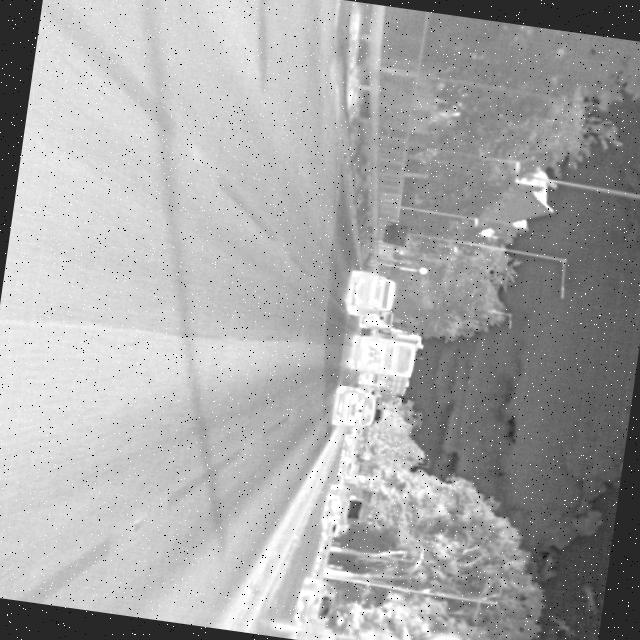Vehicle: (346, 333, 418, 380), (342, 267, 400, 322), (328, 382, 382, 432)
